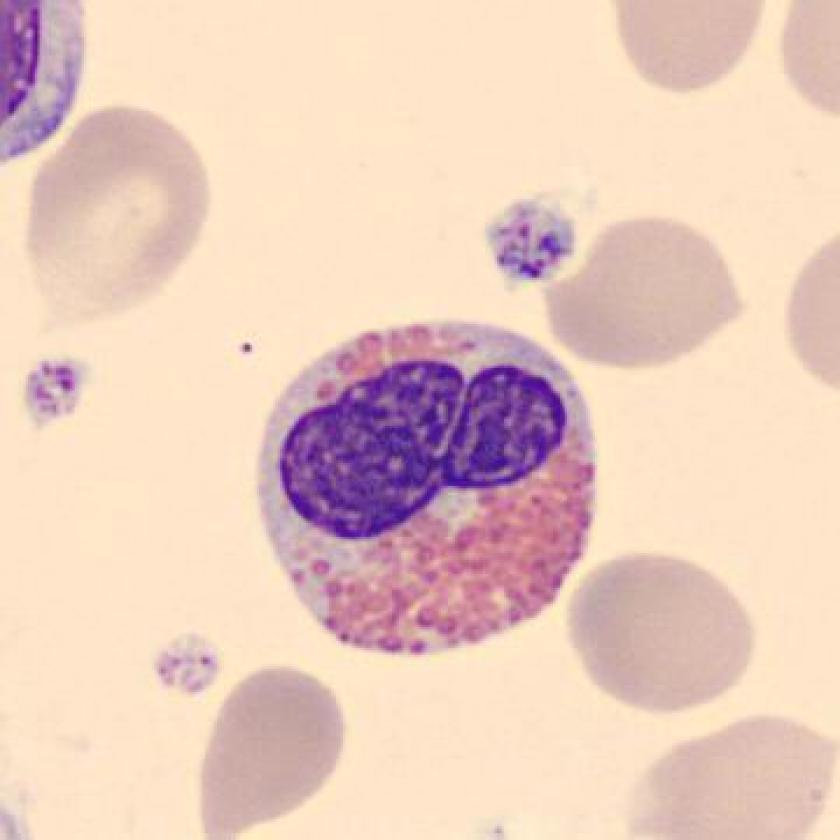eosinophil: (242, 307, 613, 668)
